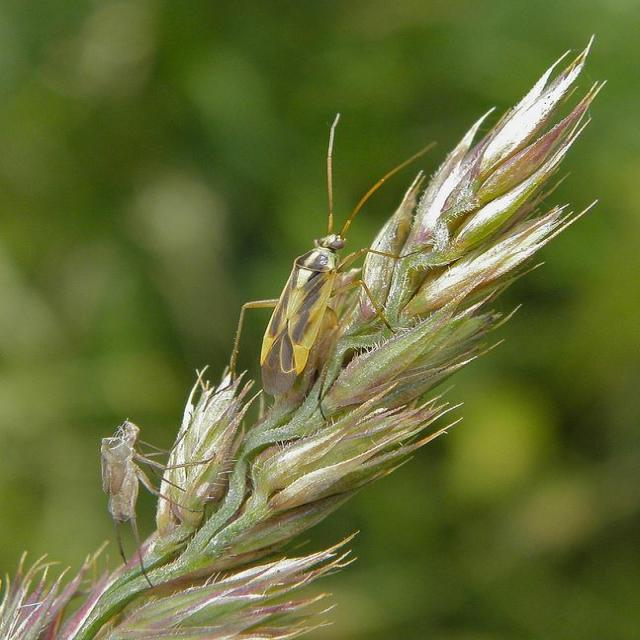Miridae-Adult-: (228, 114, 424, 426)
